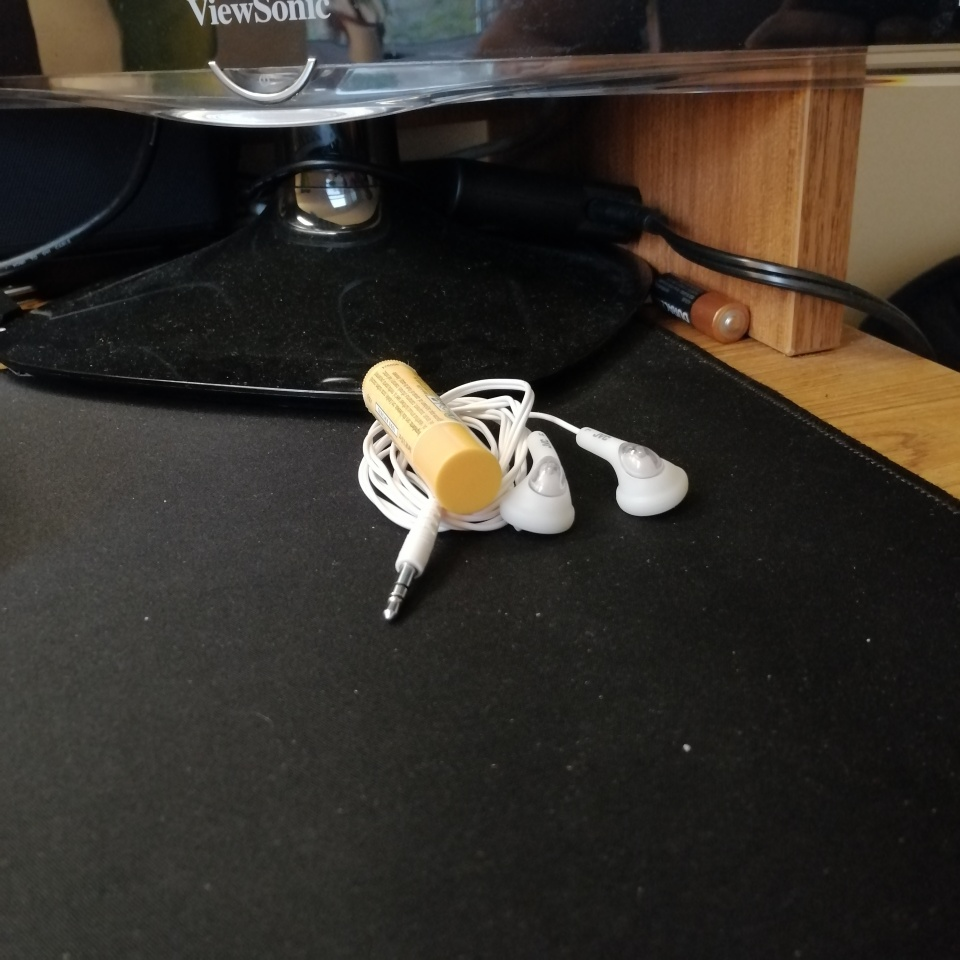chapstick: (362, 358, 504, 515)
